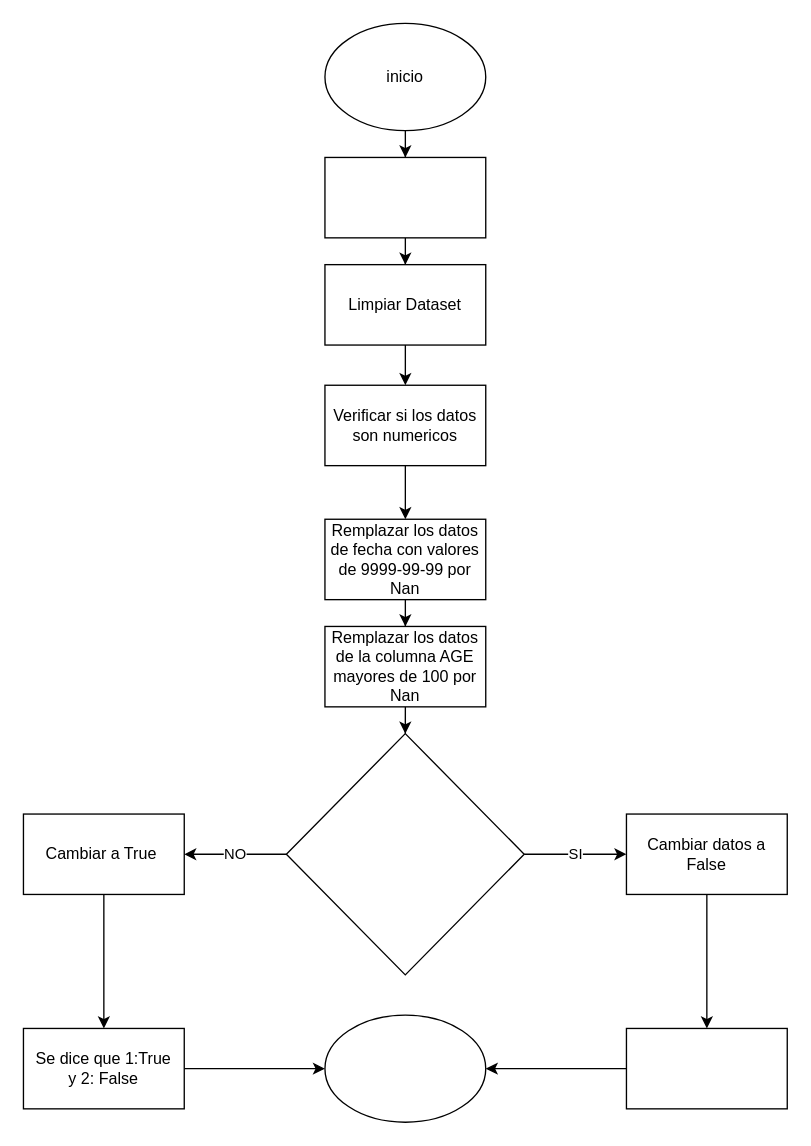
This 811x1146 diagram has some shape labels left out. The box of each missing label's shape, as (x1, y1, x2, y2) in pixels:
Fin: (324, 1014, 486, 1122)
Leer y cargar el Dataset: (324, 156, 486, 238)
Se setean los datos a Nan: (625, 1027, 787, 1109)
¿Hay valores como 97 y 99? Datos faltantes: (285, 732, 524, 975)
